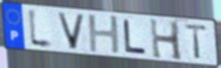H: (148, 17, 184, 63), (86, 14, 122, 55)
L: (27, 7, 57, 52), (122, 18, 148, 55)
T: (183, 22, 209, 60)
V: (55, 11, 87, 51)
